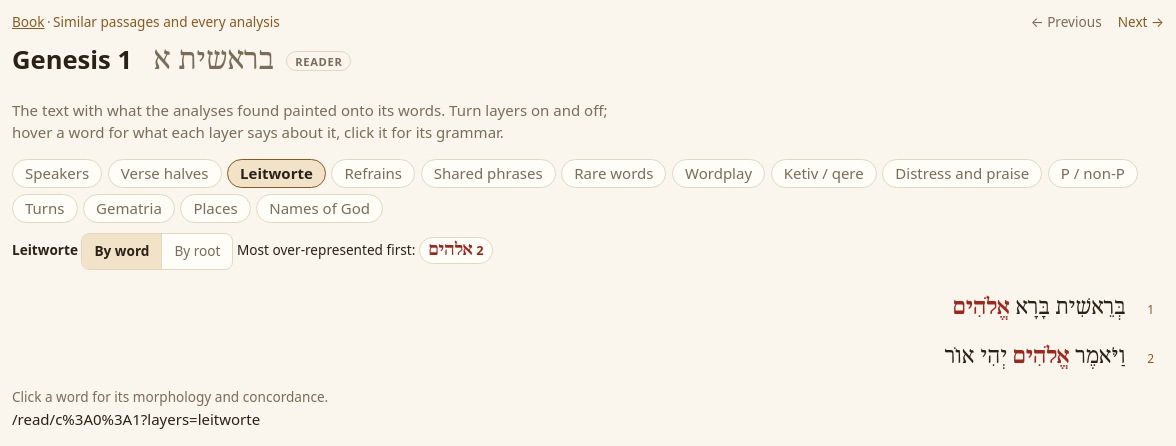
ReaderPage › counts Leitworte by root on request
Click the radio button labelled "By root". click: point(197, 251)
box: [161, 234, 232, 269]
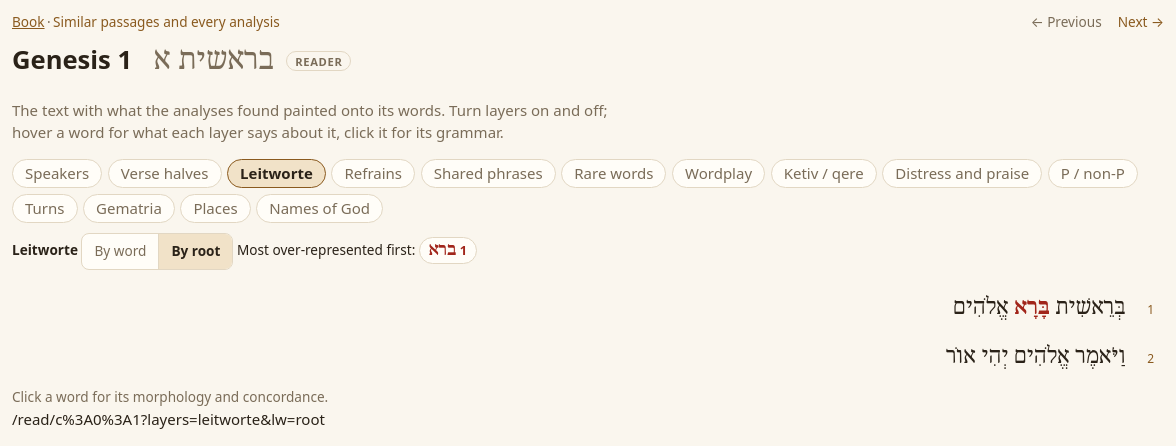
Expected: the button with class "lw-0" reads "בָּרָא", [1014, 295, 1050, 320]
Now the text with test id "loc" reads "/read/c%3A0%3A1?layers=leitworte&lw=root", box [12, 409, 325, 429]
